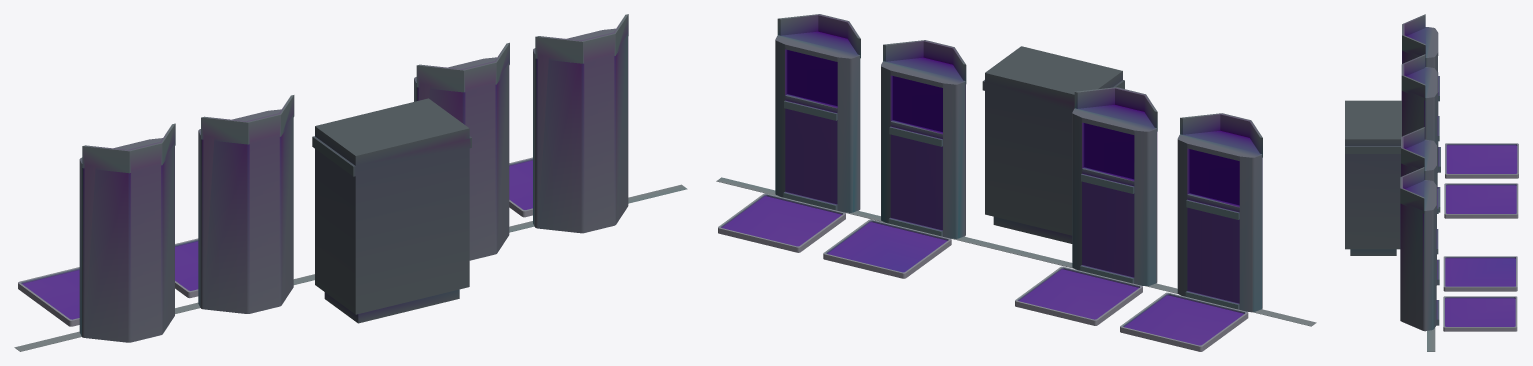
File: simready-equipment_robot_charger_a01.glb
The picture shows the model from 3 angles, left to right: view 1: azimuth 30°, elevation 25°; view 2: azimuth 150°, elevation 25°; view 3: azimuth 270°, elevation 25°; orthographic projection. The views are drawn at different scales.
Visible parts, largest first — view 1: cabinet, housing_body, housing_body.001, housing_body.003, housing_body.002, floor_plate, floor_plate.001, floor_plate.003, strip; view 2: cabinet, housing_body.003, housing_body.001, housing_body, housing_body.002, floor_plate.002, floor_plate, floor_plate.003, floor_plate.001, strip; view 3: cabinet, housing_body.003, housing_body.001, floor_plate.003, floor_plate.002, floor_plate.001, floor_plate, housing_body, housing_body.002, strip.
Part boxes in pixels (bbox=[...]): cabinet: bbox=[312, 98, 471, 323]; housing_body: bbox=[79, 123, 175, 342]; housing_body.001: bbox=[198, 95, 294, 313]; housing_body.003: bbox=[533, 14, 628, 233]; housing_body.002: bbox=[414, 42, 509, 260]; floor_plate: bbox=[18, 267, 79, 326]; floor_plate.001: bbox=[175, 238, 198, 298]; floor_plate.003: bbox=[509, 157, 532, 217]; strip: bbox=[14, 184, 687, 351]; cabinet: bbox=[982, 46, 1124, 243]; housing_body.003: bbox=[775, 14, 860, 212]; housing_body.001: bbox=[1072, 87, 1157, 285]; housing_body: bbox=[1177, 113, 1262, 312]; housing_body.002: bbox=[881, 40, 966, 238]; floor_plate.002: bbox=[823, 219, 951, 278]; floor_plate: bbox=[1120, 292, 1248, 351]; floor_plate.003: bbox=[718, 193, 845, 252]; floor_plate.001: bbox=[1015, 266, 1142, 325]; strip: bbox=[716, 177, 1316, 326]; cabinet: bbox=[1345, 100, 1401, 255]; housing_body.003: bbox=[1400, 167, 1439, 331]; housing_body.001: bbox=[1401, 54, 1440, 212]; floor_plate.003: bbox=[1443, 296, 1517, 331]; floor_plate.002: bbox=[1443, 256, 1517, 291]; floor_plate.001: bbox=[1444, 183, 1518, 218]; floor_plate: bbox=[1445, 143, 1518, 178]; housing_body: bbox=[1402, 14, 1440, 172]; housing_body.002: bbox=[1401, 127, 1439, 285]; strip: bbox=[1427, 327, 1435, 351].
Size of the model in its own units: 5.91 by 1.62 by 1.92.
